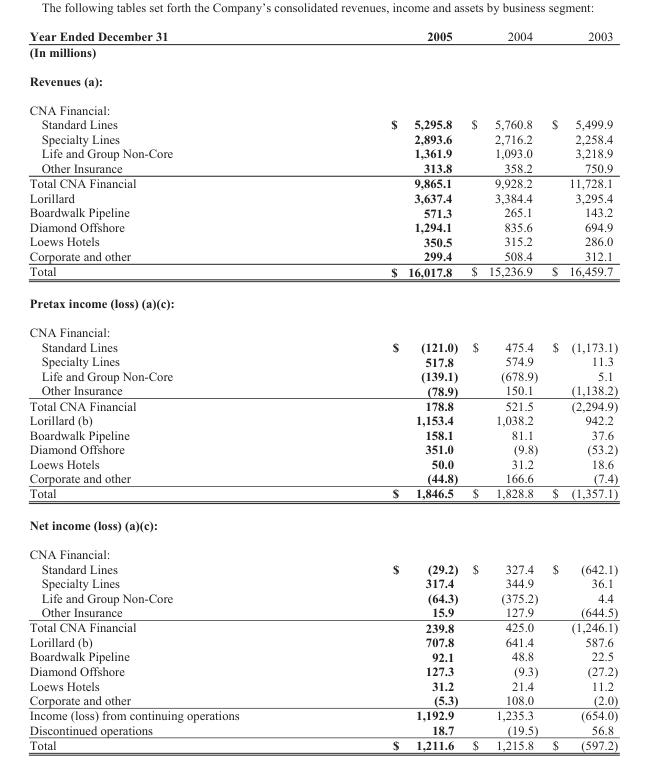table: (28, 28, 617, 751)
table column: (28, 28, 314, 751), (314, 28, 464, 751), (464, 28, 544, 751), (544, 28, 617, 751)
table column header: (28, 28, 617, 43)
table projected row header: (28, 287, 617, 317), (28, 509, 617, 539), (28, 66, 617, 95), (28, 43, 617, 66), (28, 317, 617, 339), (28, 539, 617, 561), (28, 95, 617, 116)
table row: (28, 287, 617, 317), (28, 509, 617, 539), (28, 66, 617, 95), (28, 263, 617, 287), (28, 485, 617, 509), (28, 43, 617, 66), (28, 317, 617, 339), (28, 539, 617, 561), (28, 95, 617, 116), (28, 28, 617, 43), (28, 116, 617, 131), (28, 145, 617, 160), (28, 160, 617, 175), (28, 175, 617, 190), (28, 204, 617, 219), (28, 233, 617, 248), (28, 248, 617, 263), (28, 353, 617, 368), (28, 382, 617, 397), (28, 397, 617, 412), (28, 412, 617, 427), (28, 441, 617, 456), (28, 470, 617, 485), (28, 575, 617, 590), (28, 604, 617, 619), (28, 619, 617, 634), (28, 634, 617, 649), (28, 663, 617, 678), (28, 692, 617, 707), (28, 707, 617, 722), (28, 722, 617, 737), (28, 131, 617, 145), (28, 190, 617, 204), (28, 219, 617, 233), (28, 339, 617, 353), (28, 368, 617, 382), (28, 427, 617, 441), (28, 456, 617, 470), (28, 561, 617, 575), (28, 590, 617, 604), (28, 649, 617, 663), (28, 678, 617, 692), (28, 737, 617, 751)
